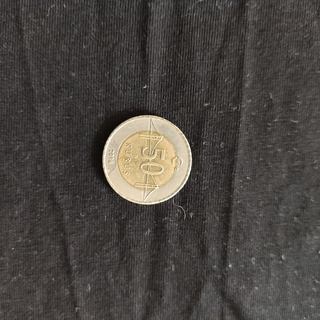50KURUS: (100, 112, 193, 206)
